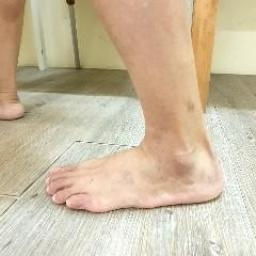Lateral View -Left Foot-: (26, 110, 242, 227)
